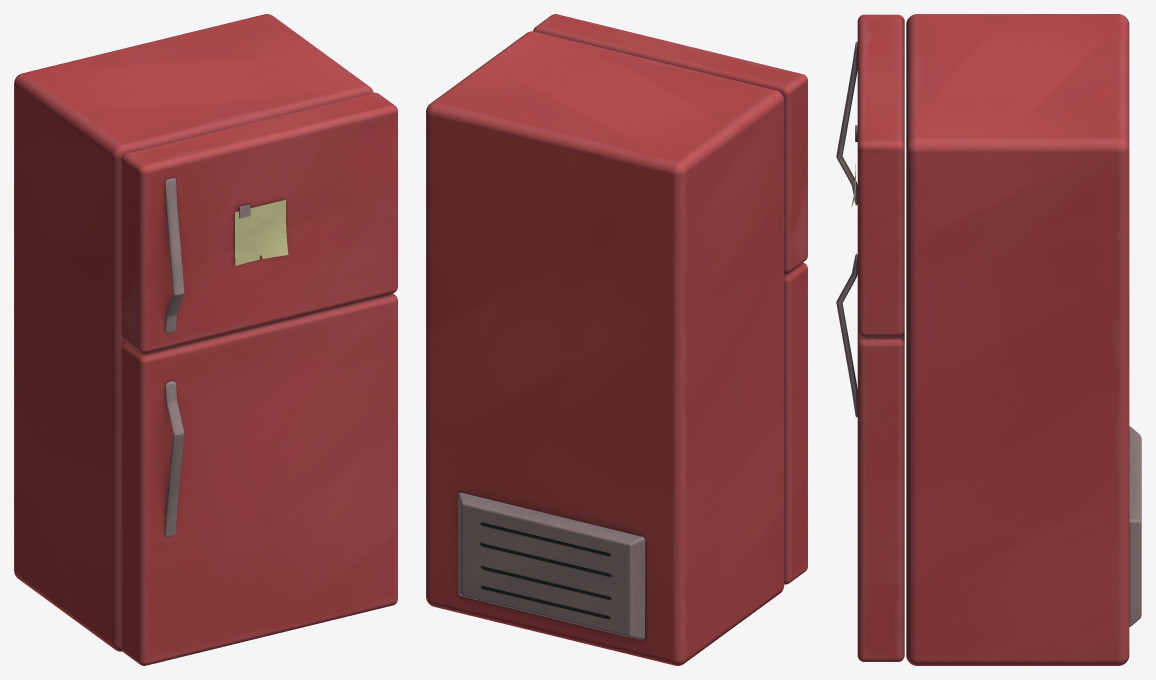
File: neverra.glb
The picture shows the model from 3 angles, left to right: view 1: azimuth 30°, elevation 25°; view 2: azimuth 150°, elevation 25°; view 3: azimuth 270°, elevation 25°; orthographic projection. The views are drawn at different scales.
Visible parts, largest first — view 1: Object_2; view 2: Object_2; view 3: Object_2.
Part boxes in pixels (x1=…): Object_2: x1=14, y1=14, x2=397, y2=665; Object_2: x1=426, y1=14, x2=807, y2=665; Object_2: x1=836, y1=14, x2=1141, y2=665.
Bounding box in the file's own units: 0.9148 × 1.7 × 0.8912.
Materials: 1 (1 with a texture image).
